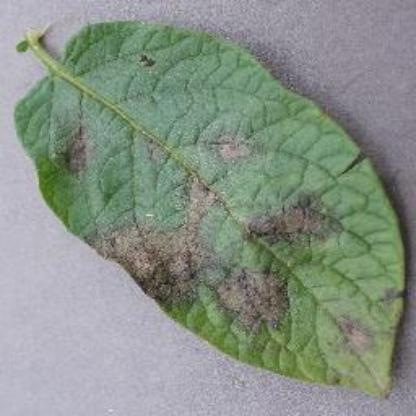Late-Blight: (9, 15, 411, 401)
